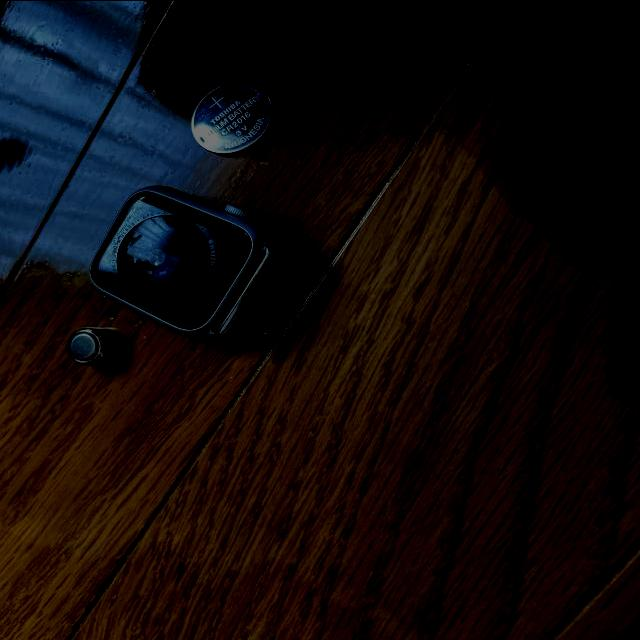COIN: (190, 80, 278, 156), (68, 326, 118, 363)
